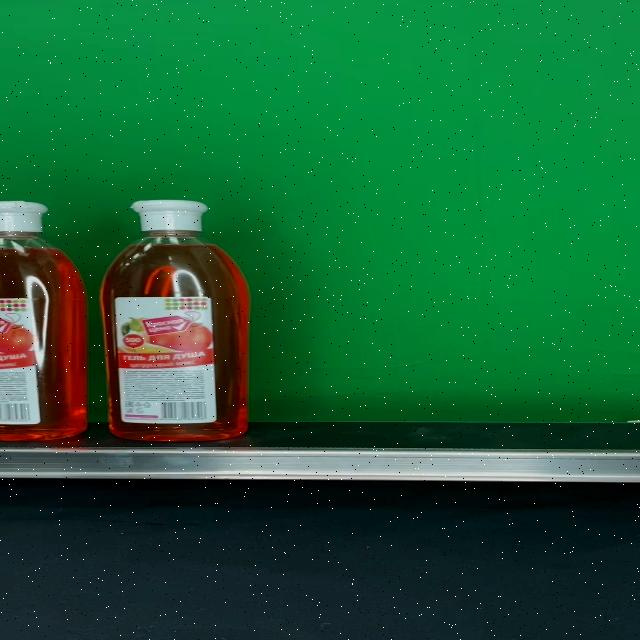Bottle: (99, 200, 250, 441)
Cap: (130, 200, 210, 232)
